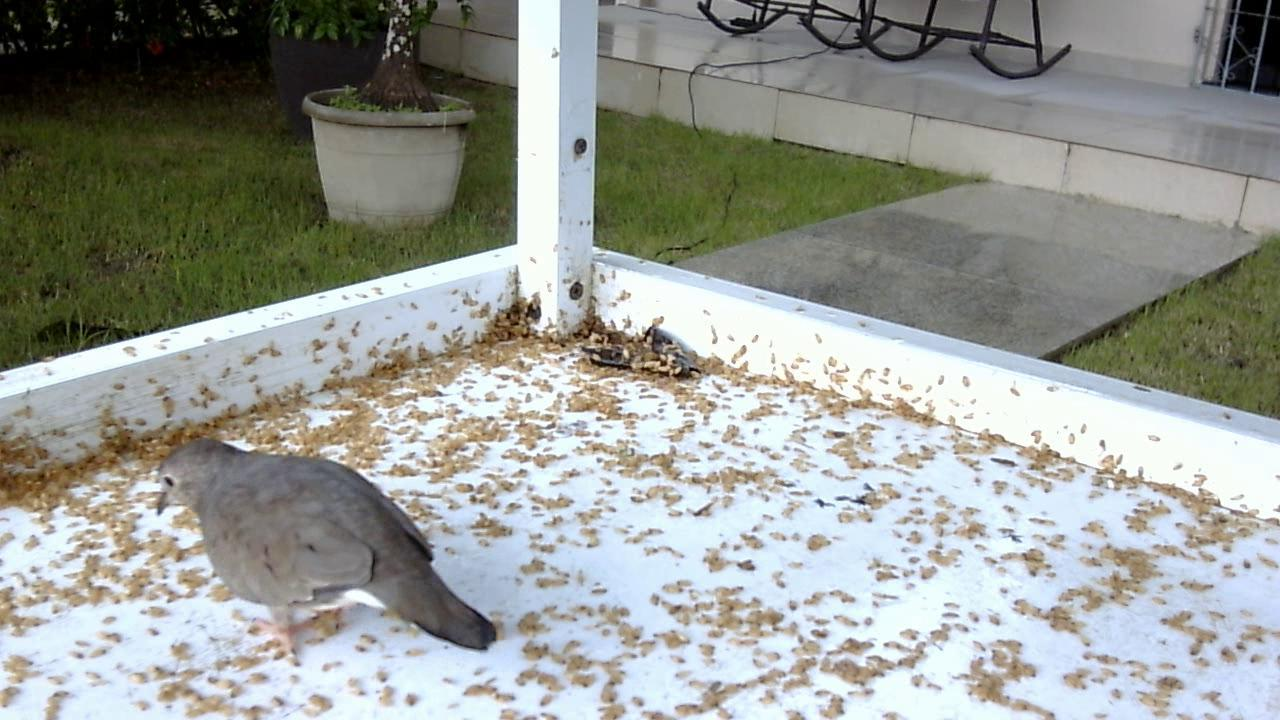rolinha: (146, 426, 498, 671)
